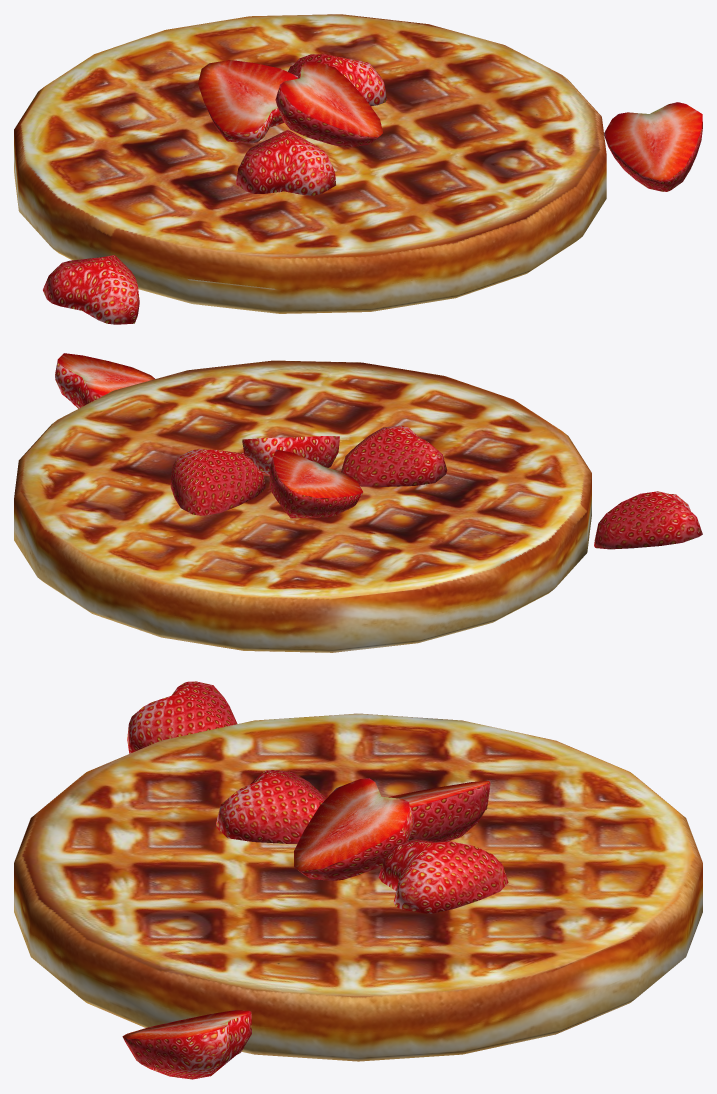
The model's file is Waffle.fbx.
3 renders of one model, top to bottom at view 1: azimuth 30°, elevation 25°; view 2: azimuth 150°, elevation 25°; view 3: azimuth 270°, elevation 25°, orthographic. The views are drawn at different scales.
Parts seen in each view (by area): view 1: Waffle; view 2: Waffle; view 3: Waffle.
Boxes of the visible parts, x1,y1,x2,y2 form: Waffle: [14, 14, 702, 324]; Waffle: [14, 353, 702, 652]; Waffle: [14, 681, 702, 1079].
Bounding box in the file's own units: 18.47 × 3.03 × 14.56.
Materials: 1 (1 with a texture image).
